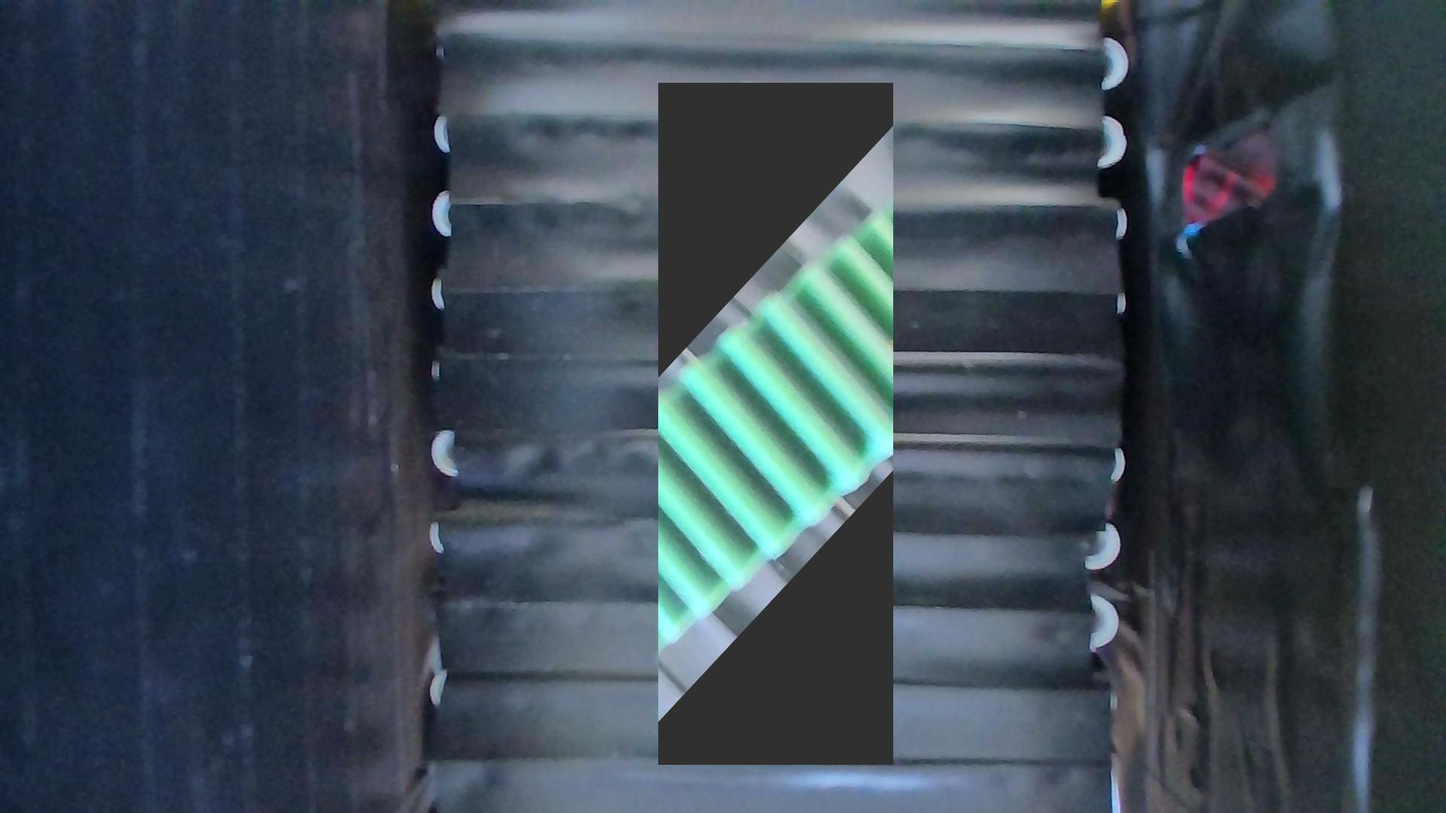gear: (658, 83, 893, 765)
